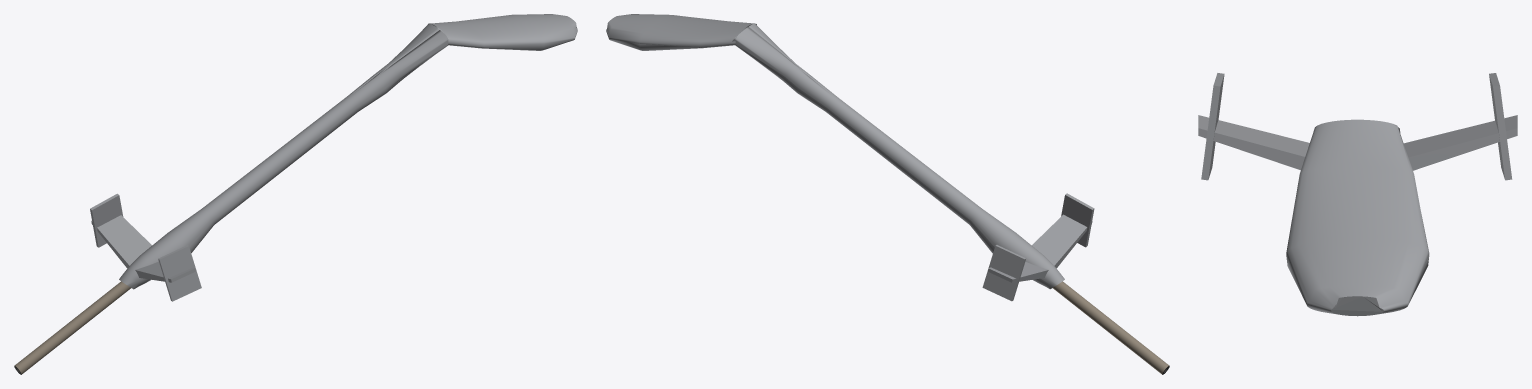
The picture shows the model from 3 angles, left to right: view 1: azimuth 30°, elevation 25°; view 2: azimuth 150°, elevation 25°; view 3: azimuth 270°, elevation 25°; orthographic projection. The views are drawn at different scales.
Visible parts, largest first — view 1: 立方体, boom.001, innerBoom; view 2: 立方体, boom.001, innerBoom; view 3: boom.001, 立方体.
Part boxes in pixels (<box>): 立方体: <box>90,23,448,301</box>; boom.001: <box>428,14,577,50</box>; innerBoom: <box>14,281,130,374</box>; 立方体: <box>732,23,1094,301</box>; boom.001: <box>606,14,756,50</box>; innerBoom: <box>1053,281,1169,374</box>; boom.001: <box>1286,119,1429,316</box>; 立方体: <box>1198,73,1517,180</box>.
Bounding box in the file's own units: 15.04 × 6.32 × 3.74.
